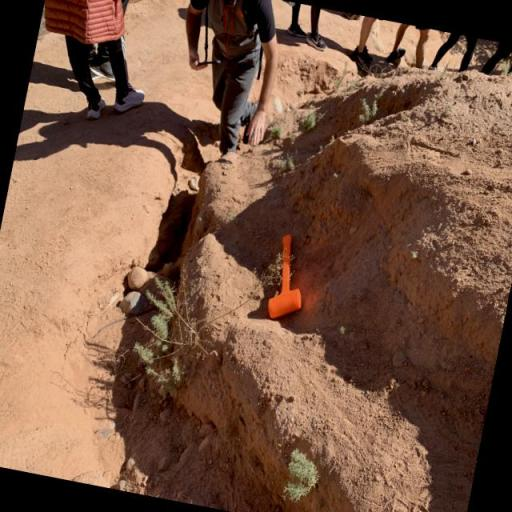mallet: (260, 231, 316, 330)
